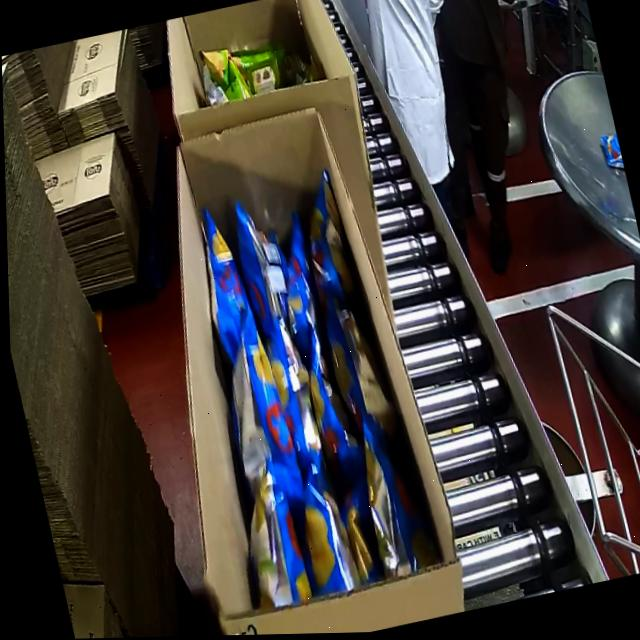PAPRIKA: (171, 193, 438, 636)
